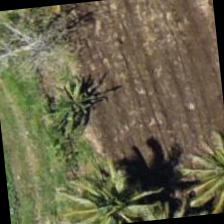Kelapa_Sawit: (64, 150, 163, 223), (170, 117, 223, 214)
